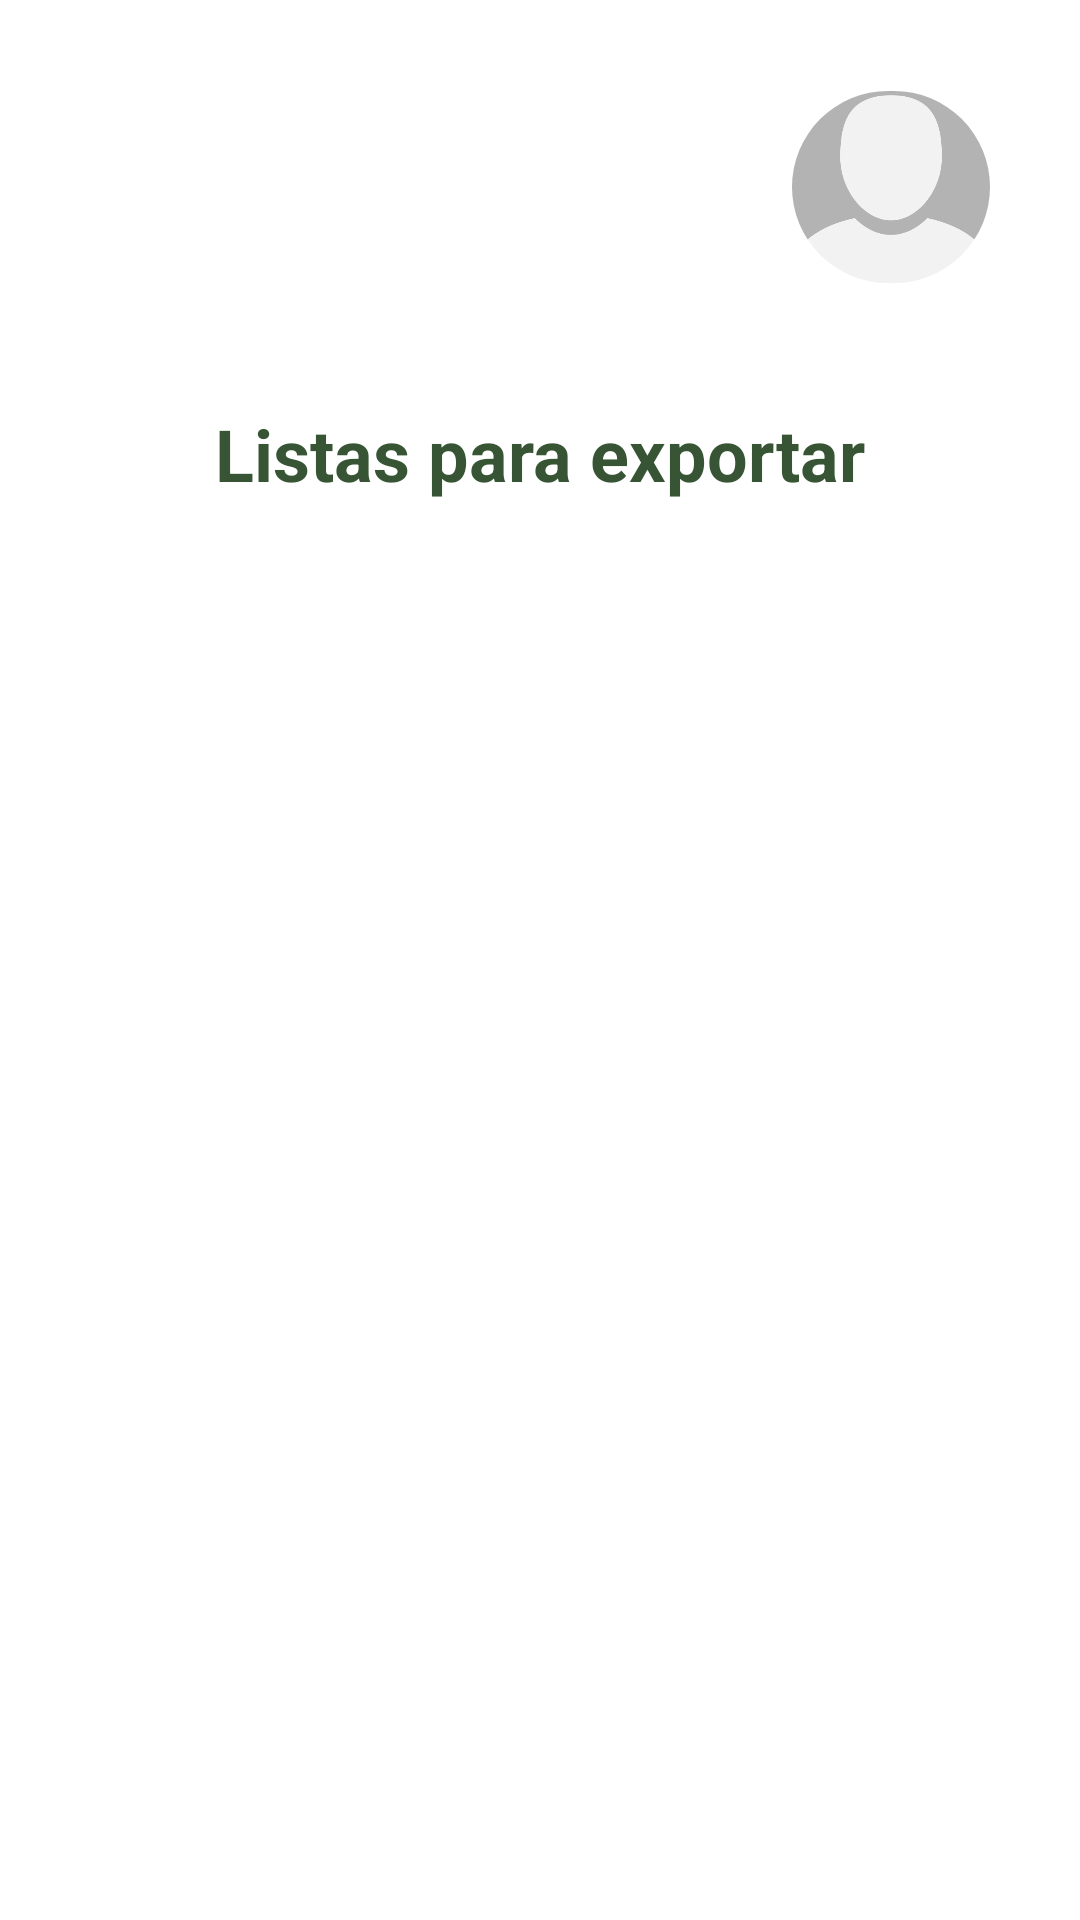

Screen size 1080 x 1920. Icon name, then its box in pixels as (x1, y1, x2, y2):
profileimage: (792, 91, 990, 283)
